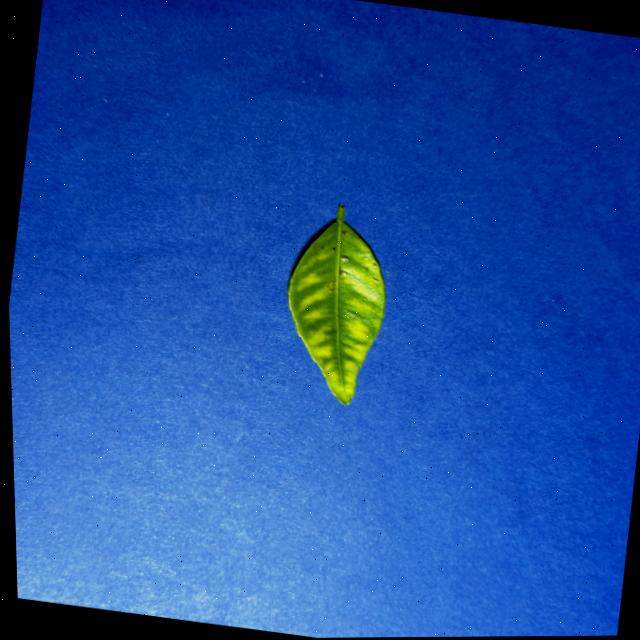greening: (288, 204, 384, 403)
